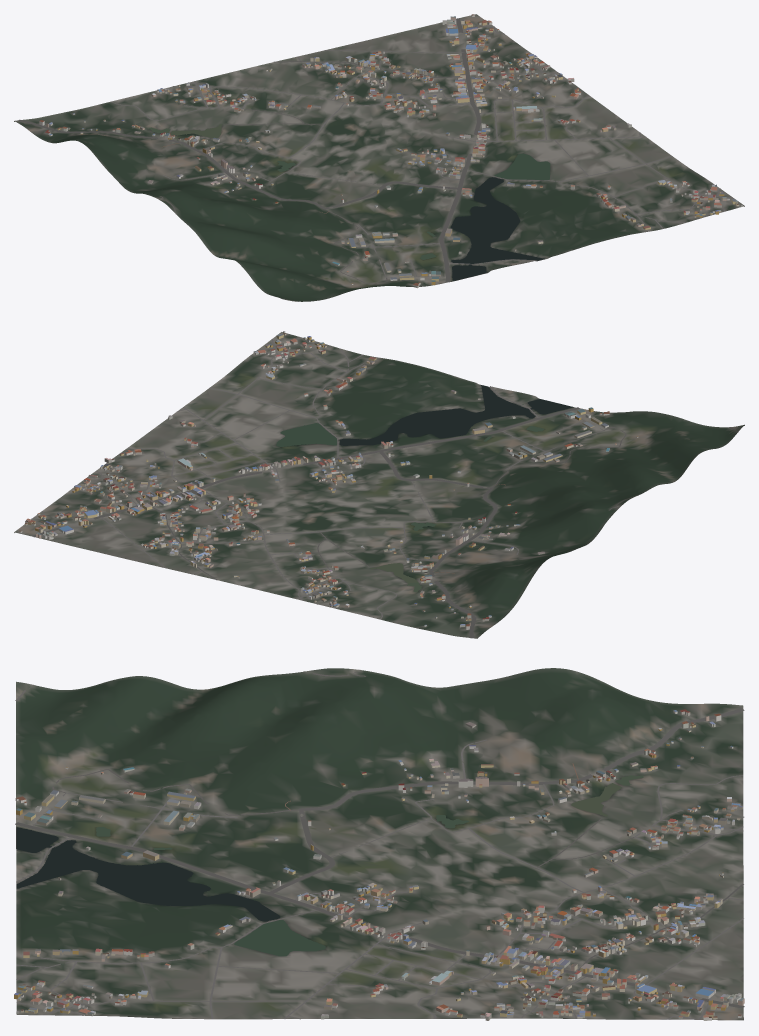
3 renders of one model, top to bottom at view 1: azimuth 30°, elevation 25°; view 2: azimuth 150°, elevation 25°; view 3: azimuth 270°, elevation 25°, orthographic. The views are drawn at different scales.
Parts seen in each view (by area): view 1: ground, buildings, roads, water; view 2: ground, buildings, roads, water; view 3: ground, buildings, roads, water.
Part boxes in pixels (left/top/right/bottom): ground: left=14, top=14, right=744, bottom=301; buildings: left=39, top=14, right=742, bottom=288; roads: left=18, top=18, right=734, bottom=301; water: left=148, top=124, right=550, bottom=280; ground: left=14, top=332, right=744, bottom=638; buildings: left=18, top=331, right=638, bottom=629; roads: left=31, top=337, right=736, bottom=638; water: left=276, top=385, right=573, bottom=591; ground: left=16, top=668, right=743, bottom=1020; buildings: left=14, top=709, right=744, bottom=1020; roads: left=15, top=670, right=744, bottom=1019; water: left=16, top=775, right=643, bottom=956.
Size of the model in its own units: 1408 by 102 by 1409.
